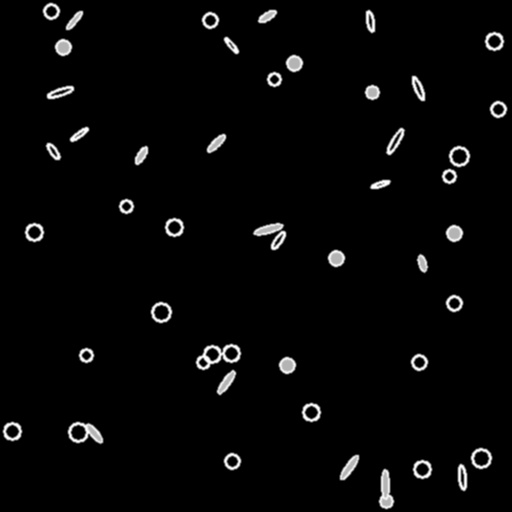pseudomonas: (338, 453, 360, 481), (385, 127, 405, 155), (216, 370, 236, 394), (84, 422, 104, 444), (206, 133, 226, 153), (269, 229, 287, 251), (46, 85, 74, 99), (254, 222, 282, 236), (65, 10, 83, 30), (411, 76, 425, 100), (257, 8, 277, 24), (69, 126, 89, 142), (45, 142, 61, 160), (223, 36, 239, 54), (134, 145, 148, 165), (457, 464, 467, 490), (381, 470, 389, 498), (365, 10, 375, 32), (416, 254, 428, 272), (370, 179, 390, 189)
synechocystis: (69, 423, 87, 441), (152, 303, 170, 321), (450, 147, 468, 165), (472, 449, 490, 467), (414, 461, 430, 477), (223, 345, 239, 361), (303, 404, 319, 420), (4, 423, 20, 439), (26, 224, 42, 240), (204, 346, 220, 362), (486, 33, 502, 49), (166, 219, 182, 235), (412, 355, 426, 369), (287, 56, 301, 70), (329, 251, 343, 265), (447, 296, 461, 310), (491, 102, 505, 116), (447, 226, 461, 240), (225, 454, 239, 468), (56, 40, 70, 54), (280, 358, 294, 372), (44, 4, 58, 18), (203, 13, 217, 27), (380, 495, 392, 507), (120, 200, 132, 212), (366, 86, 378, 98), (197, 356, 209, 368), (80, 349, 92, 361), (268, 73, 280, 85), (443, 170, 455, 182)
